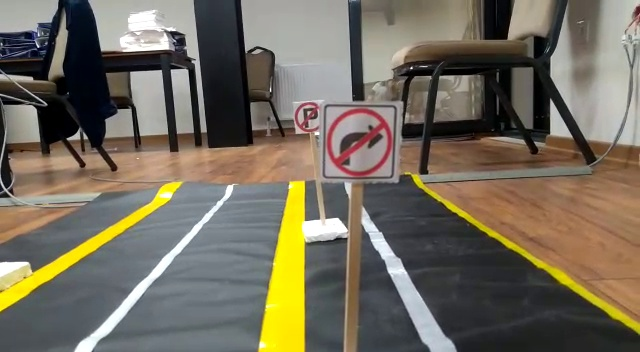park_yapilmaz: (294, 101, 320, 133)
saga_donulmez: (324, 105, 394, 181)
